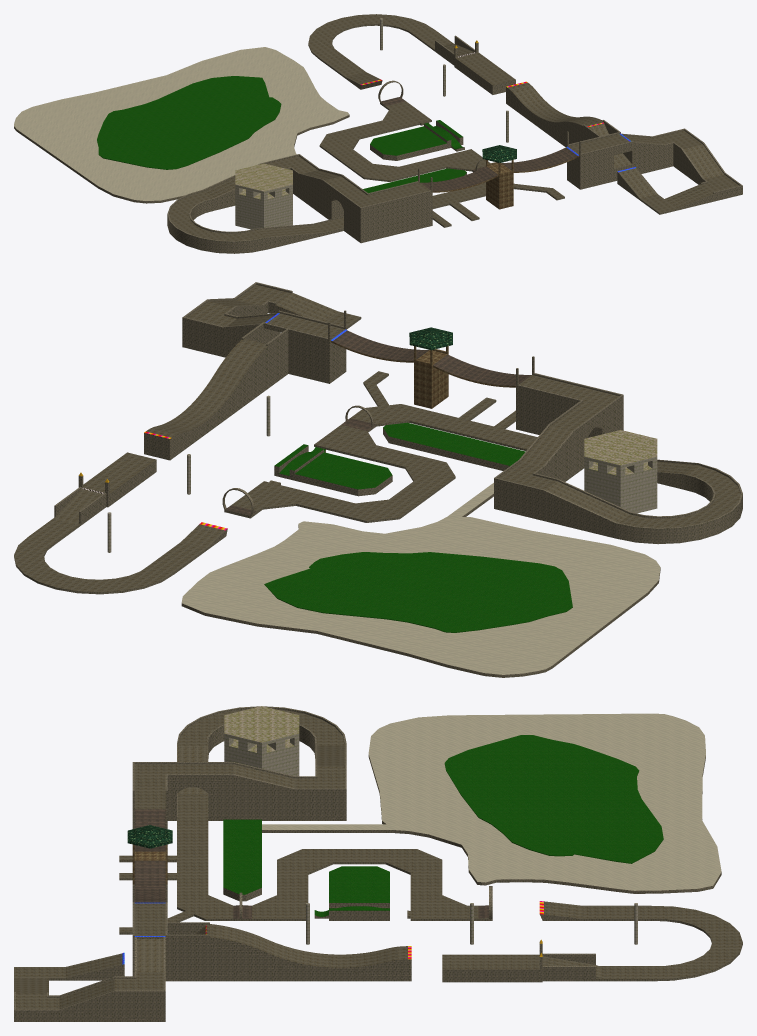
The picture shows the model from 3 angles, top to bottom: view 1: azimuth 30°, elevation 25°; view 2: azimuth 150°, elevation 25°; view 3: azimuth 270°, elevation 25°; orthographic projection. The views are drawn at different scales.
Parts seen in each view (by area): view 1: Lost_Island_2k17_Main-Road1, Lost_Island_2k17_Main-Mur, Lost_Island_2k17_Main-SandsIsland, Lost_Island_2k17_Main-GrassIsland, Lost_Island_2k17_Main-Donjon, Lost_Island_2k17_Main-Passerelle, Lost_Island_2k17_Main-SolDonjon, Lost_Island_2k17_Main-WoodsTower, Lost_Island_2k17_Main-LeafRoof; view 2: Lost_Island_2k17_Main-Road1, Lost_Island_2k17_Main-SandsIsland, Lost_Island_2k17_Main-Mur, Lost_Island_2k17_Main-GrassIsland, Lost_Island_2k17_Main-Donjon, Lost_Island_2k17_Main-Passerelle, Lost_Island_2k17_Main-SolDonjon, Lost_Island_2k17_Main-WoodsTower, Lost_Island_2k17_Main-LeafRoof; view 3: Lost_Island_2k17_Main-Road1, Lost_Island_2k17_Main-SandsIsland, Lost_Island_2k17_Main-Mur, Lost_Island_2k17_Main-GrassIsland, Lost_Island_2k17_Main-Donjon, Lost_Island_2k17_Main-Passerelle, Lost_Island_2k17_Main-SolDonjon, Lost_Island_2k17_Main-LeafRoof, Lost_Island_2k17_Main-WoodsTower.
Part boxes in pixels (left/top/right/bottom): Lost_Island_2k17_Main-Road1: left=169, top=14, right=739, bottom=240; Lost_Island_2k17_Main-Mur: left=14, top=24, right=742, bottom=253; Lost_Island_2k17_Main-SandsIsland: left=14, top=47, right=349, bottom=200; Lost_Island_2k17_Main-GrassIsland: left=97, top=76, right=466, bottom=193; Lost_Island_2k17_Main-Donjon: left=235, top=18, right=508, bottom=229; Lost_Island_2k17_Main-Passerelle: left=381, top=97, right=577, bottom=191; Lost_Island_2k17_Main-SolDonjon: left=235, top=163, right=292, bottom=199; Lost_Island_2k17_Main-WoodsTower: left=432, top=155, right=579, bottom=209; Lost_Island_2k17_Main-LeafRoof: left=482, top=145, right=516, bottom=162; Lost_Island_2k17_Main-Road1: left=14, top=285, right=740, bottom=592; Lost_Island_2k17_Main-SandsIsland: left=181, top=483, right=660, bottom=674; Lost_Island_2k17_Main-Mur: left=14, top=282, right=742, bottom=677; Lost_Island_2k17_Main-GrassIsland: left=264, top=422, right=572, bottom=632; Lost_Island_2k17_Main-Donjon: left=107, top=395, right=657, bottom=552; Lost_Island_2k17_Main-Passerelle: left=225, top=330, right=531, bottom=515; Lost_Island_2k17_Main-SolDonjon: left=584, top=430, right=657, bottom=475; Lost_Island_2k17_Main-WoodsTower: left=330, top=340, right=515, bottom=408; Lost_Island_2k17_Main-LeafRoof: left=409, top=327, right=452, bottom=350; Lost_Island_2k17_Main-Road1: left=14, top=709, right=742, bottom=1009; Lost_Island_2k17_Main-SandsIsland: left=262, top=713, right=721, bottom=890; Lost_Island_2k17_Main-Mur: left=14, top=706, right=742, bottom=1021; Lost_Island_2k17_Main-GrassIsland: left=223, top=735, right=663, bottom=916; Lost_Island_2k17_Main-Donjon: left=224, top=733, right=637, bottom=944; Lost_Island_2k17_Main-Passerelle: left=134, top=809, right=488, bottom=918; Lost_Island_2k17_Main-SolDonjon: left=224, top=706, right=299, bottom=752; Lost_Island_2k17_Main-LeafRoof: left=127, top=825, right=172, bottom=848; Lost_Island_2k17_Main-WoodsTower: left=132, top=844, right=167, bottom=884.
Size of what is drawn, in the model's own units: 94934 by 10178 by 95784.
13 materials, 13 textured.
